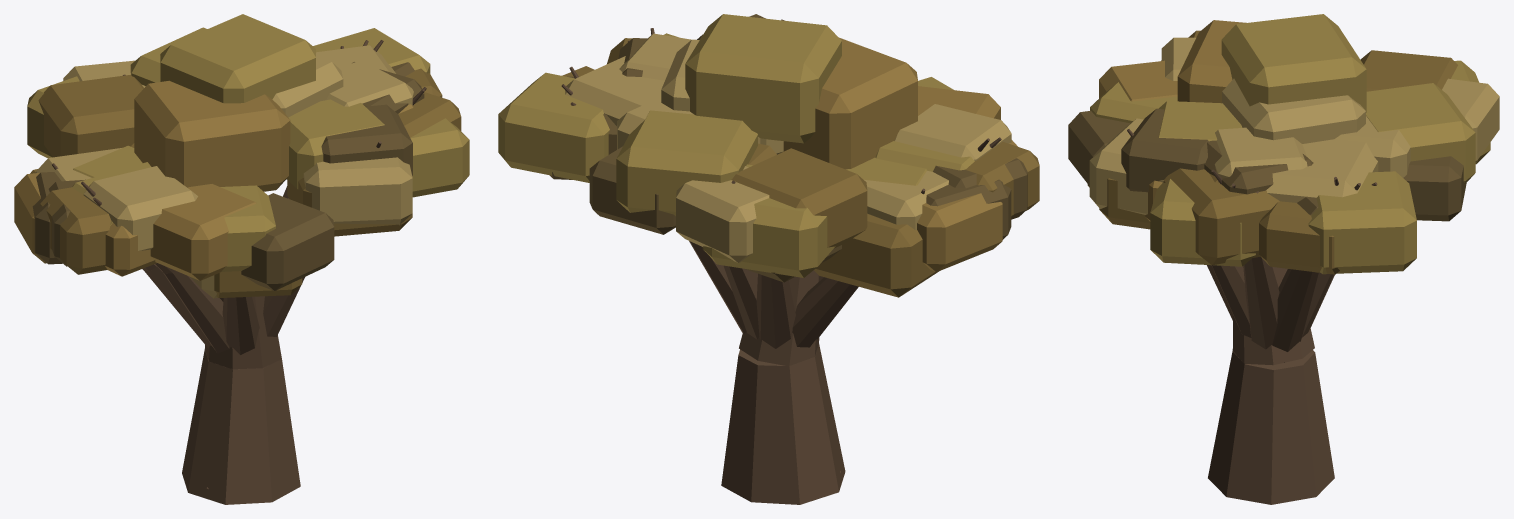
File: apple_ancient_autumn.glb
3 views of the same model, side by side, from view 1: azimuth 30°, elevation 25°; view 2: azimuth 150°, elevation 25°; view 3: azimuth 270°, elevation 25° (orthographic). The views are drawn at different scales.
Parts seen in each view (by area): view 1: apple_ancient_autumn; view 2: apple_ancient_autumn; view 3: apple_ancient_autumn.
Part boxes in pixels (box(x1,y1,x2,y2)): apple_ancient_autumn: box(14, 14, 469, 504); apple_ancient_autumn: box(498, 14, 1039, 504); apple_ancient_autumn: box(1068, 14, 1499, 504).
Bounding box in the file's own units: 18.75 × 18 × 15.95.
